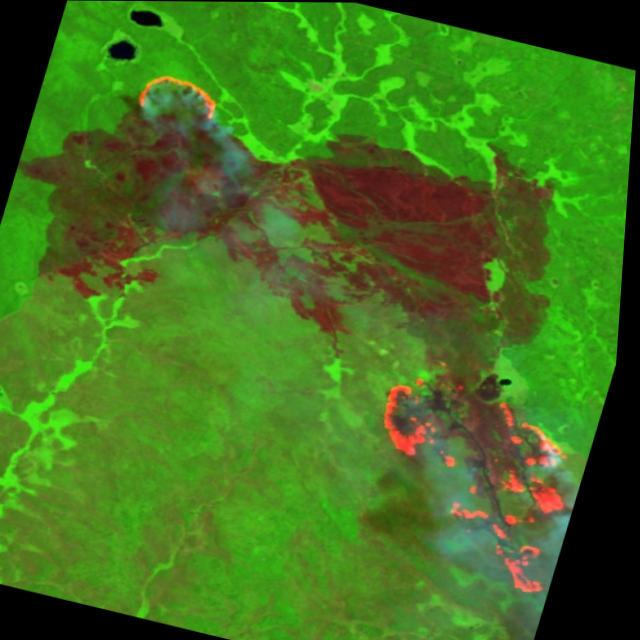fire: (335, 356, 610, 605), (119, 63, 234, 142)
